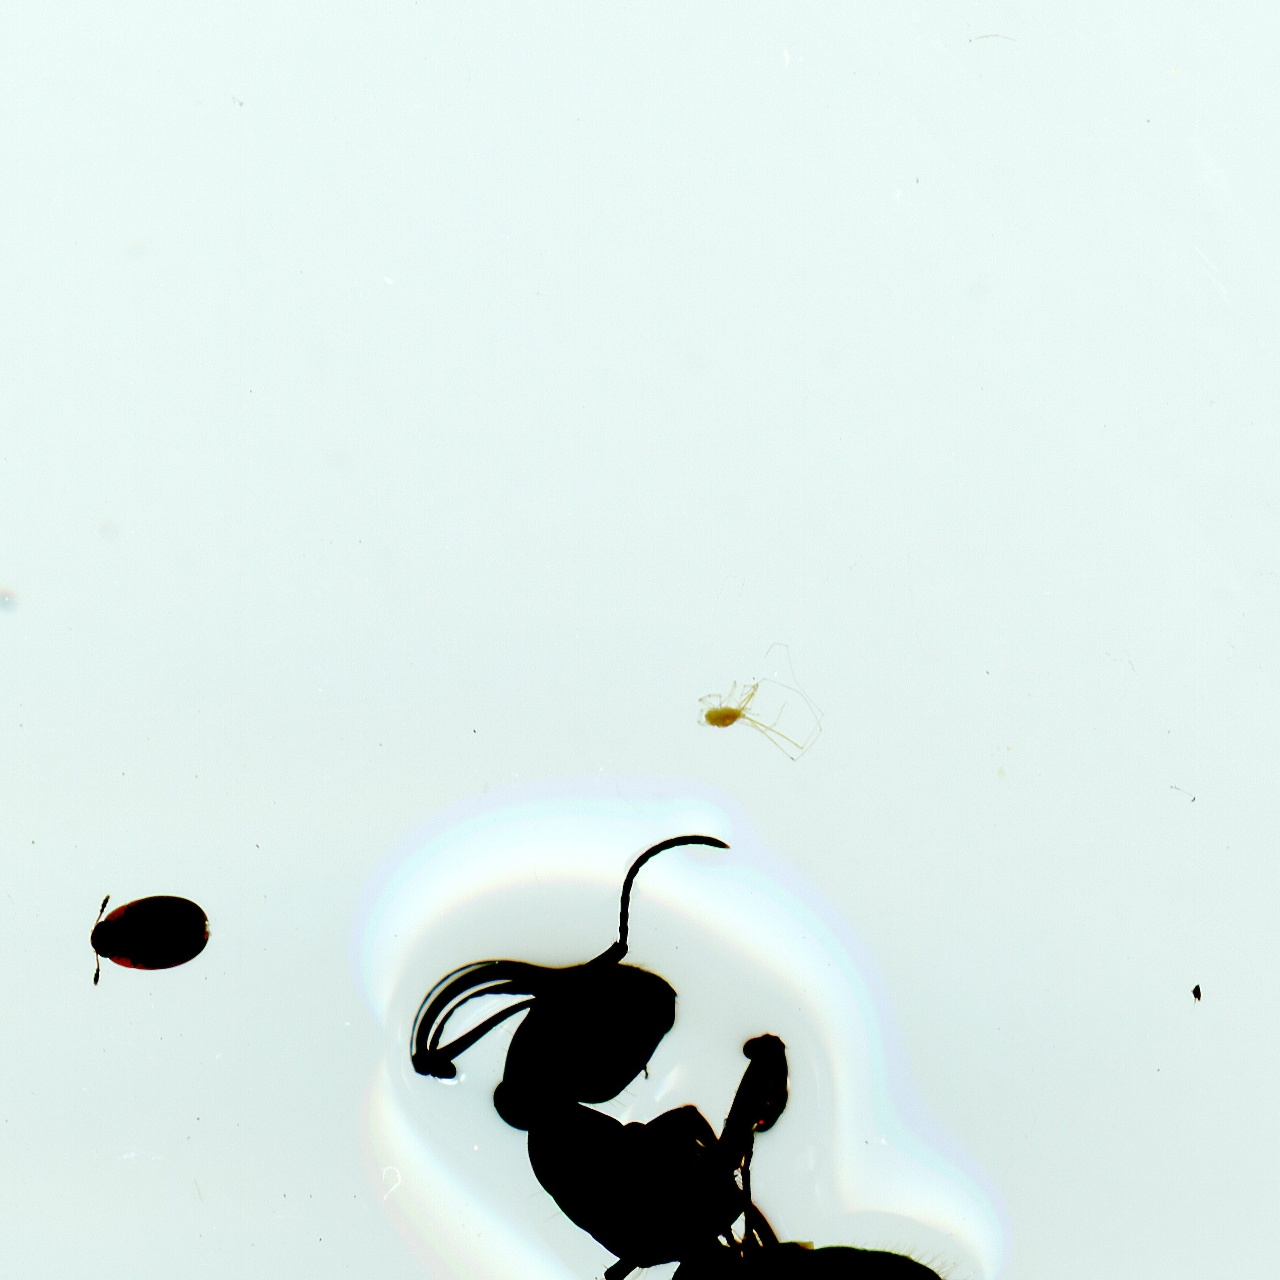arthropod: (342, 783, 1038, 1280), (691, 637, 831, 768), (85, 874, 222, 990)
